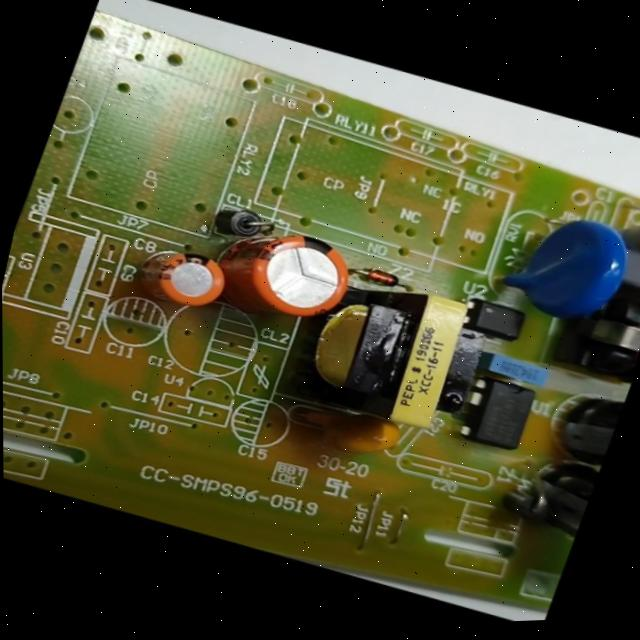Cap1: (204, 206, 367, 339)
Cap2: (130, 233, 238, 319)
Cap3: (541, 371, 630, 477)
Cap4: (505, 445, 602, 557)
MOSFET: (445, 363, 547, 461)
Mov: (494, 193, 640, 340)
Resistor: (617, 201, 640, 260)
Transformer: (269, 251, 490, 452), (535, 269, 640, 393)
